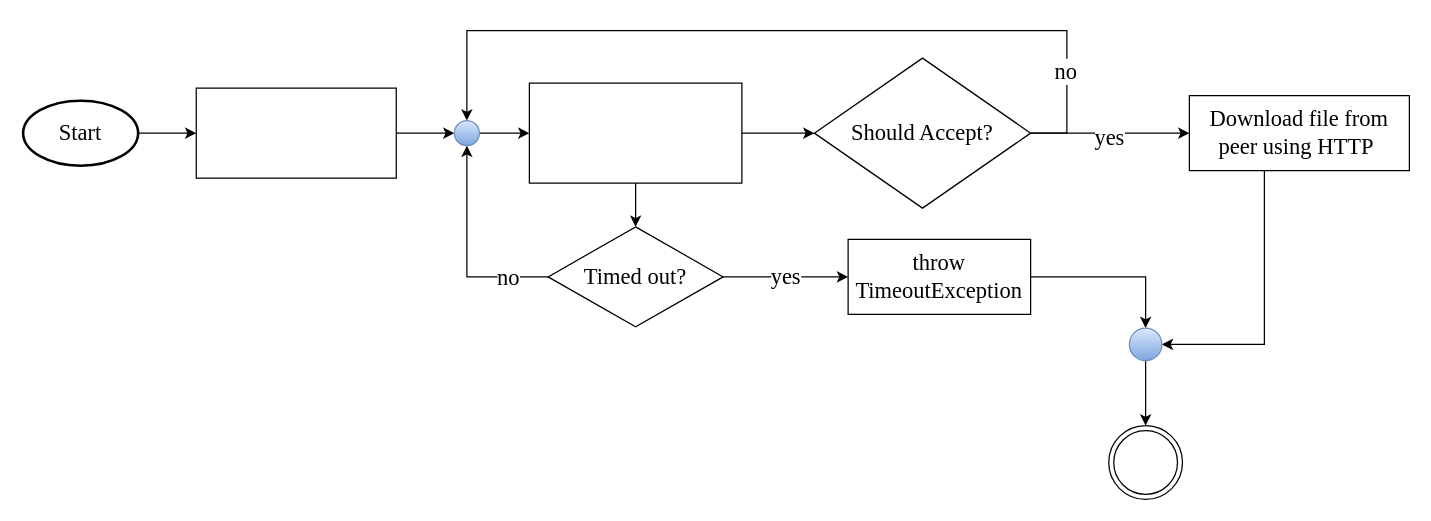
Image size: 1431x521. Some labels were removed from this diagram. The shapes that lost their labels are listed below. From the top down, each one's box as (x1, y1, x2, y2) in pixels, then its label:
(195, 87, 396, 178): Send UDP broadcast to all peers for file
(528, 82, 742, 183): Listen for incoming UDP datagram from a peer
(1108, 424, 1182, 499): End
